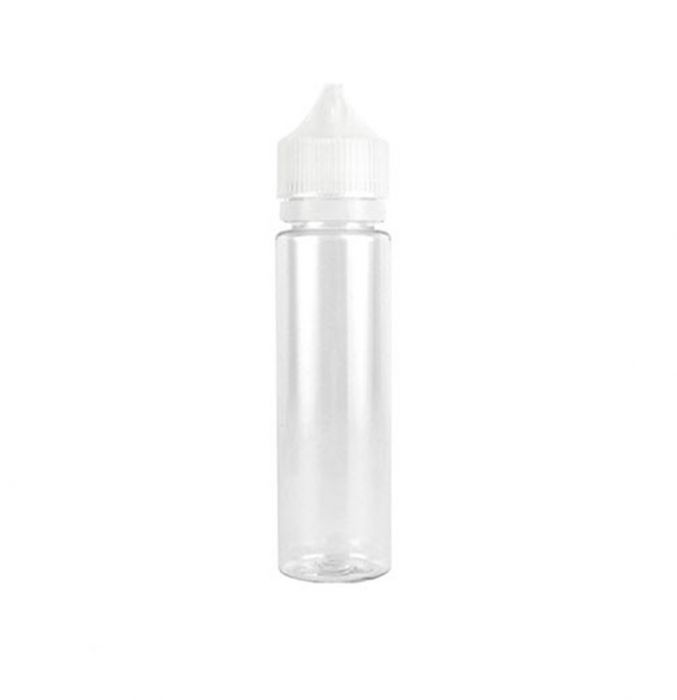emptybottle: (275, 84, 393, 583)
